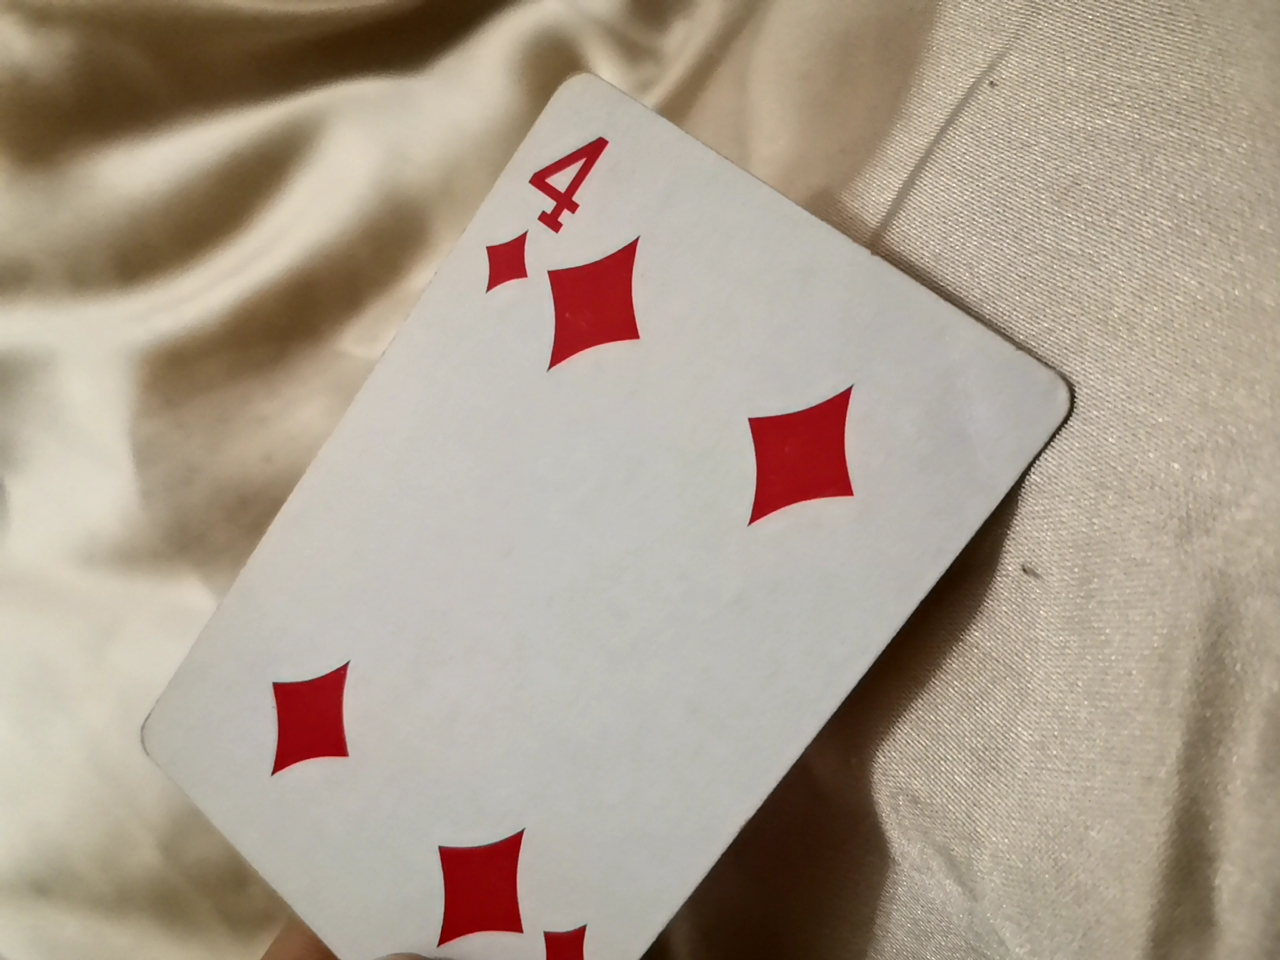fk 4: (132, 78, 1050, 960)
